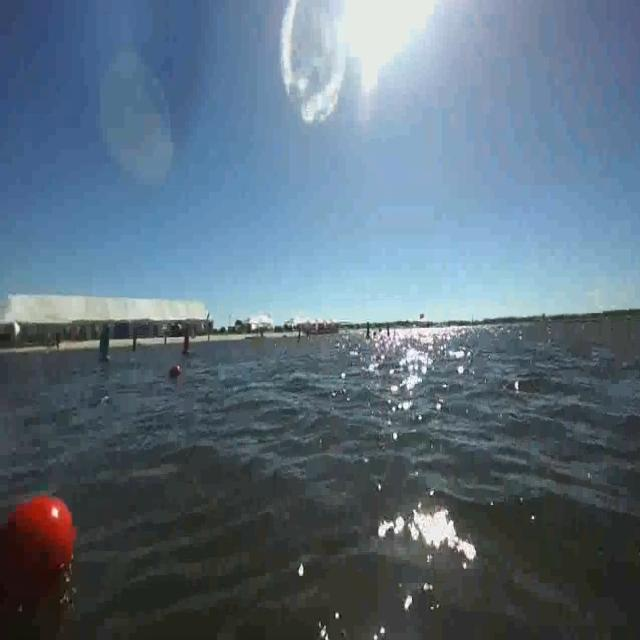black-buoy: (170, 364, 180, 378)
green-column-buoy: (96, 326, 112, 365)
red-buoy: (3, 494, 76, 579)
